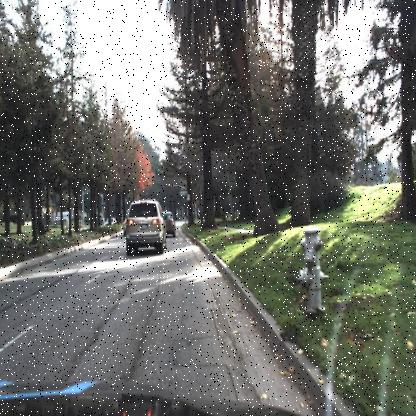car: (121, 195, 170, 258), (162, 209, 175, 238), (104, 216, 118, 228), (121, 215, 128, 238)
trafficLight-Red: (166, 181, 170, 189)
